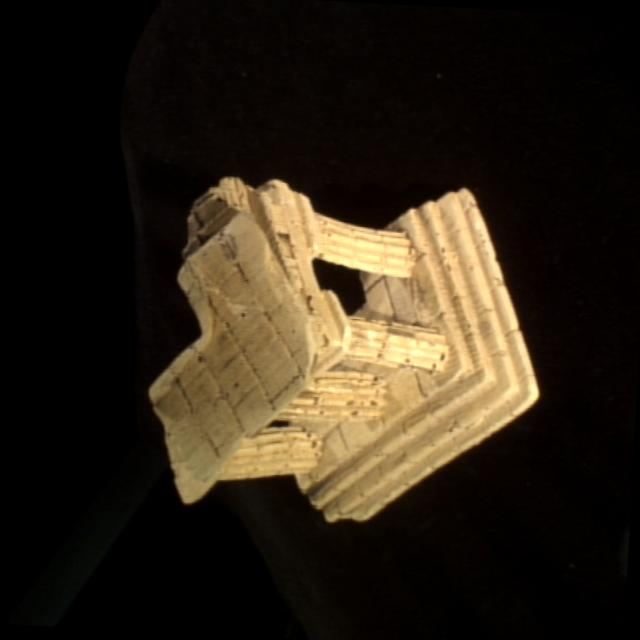Instance-Segmentation: (150, 178, 536, 520)
